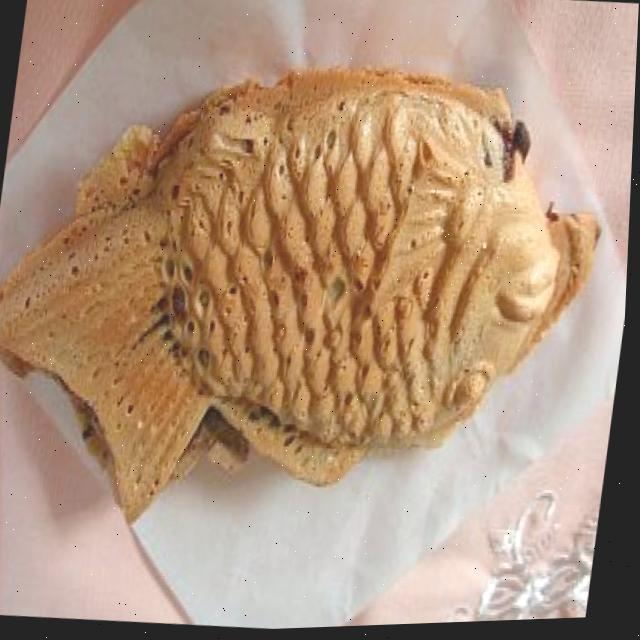熟制海鲜: (0, 31, 637, 582)
